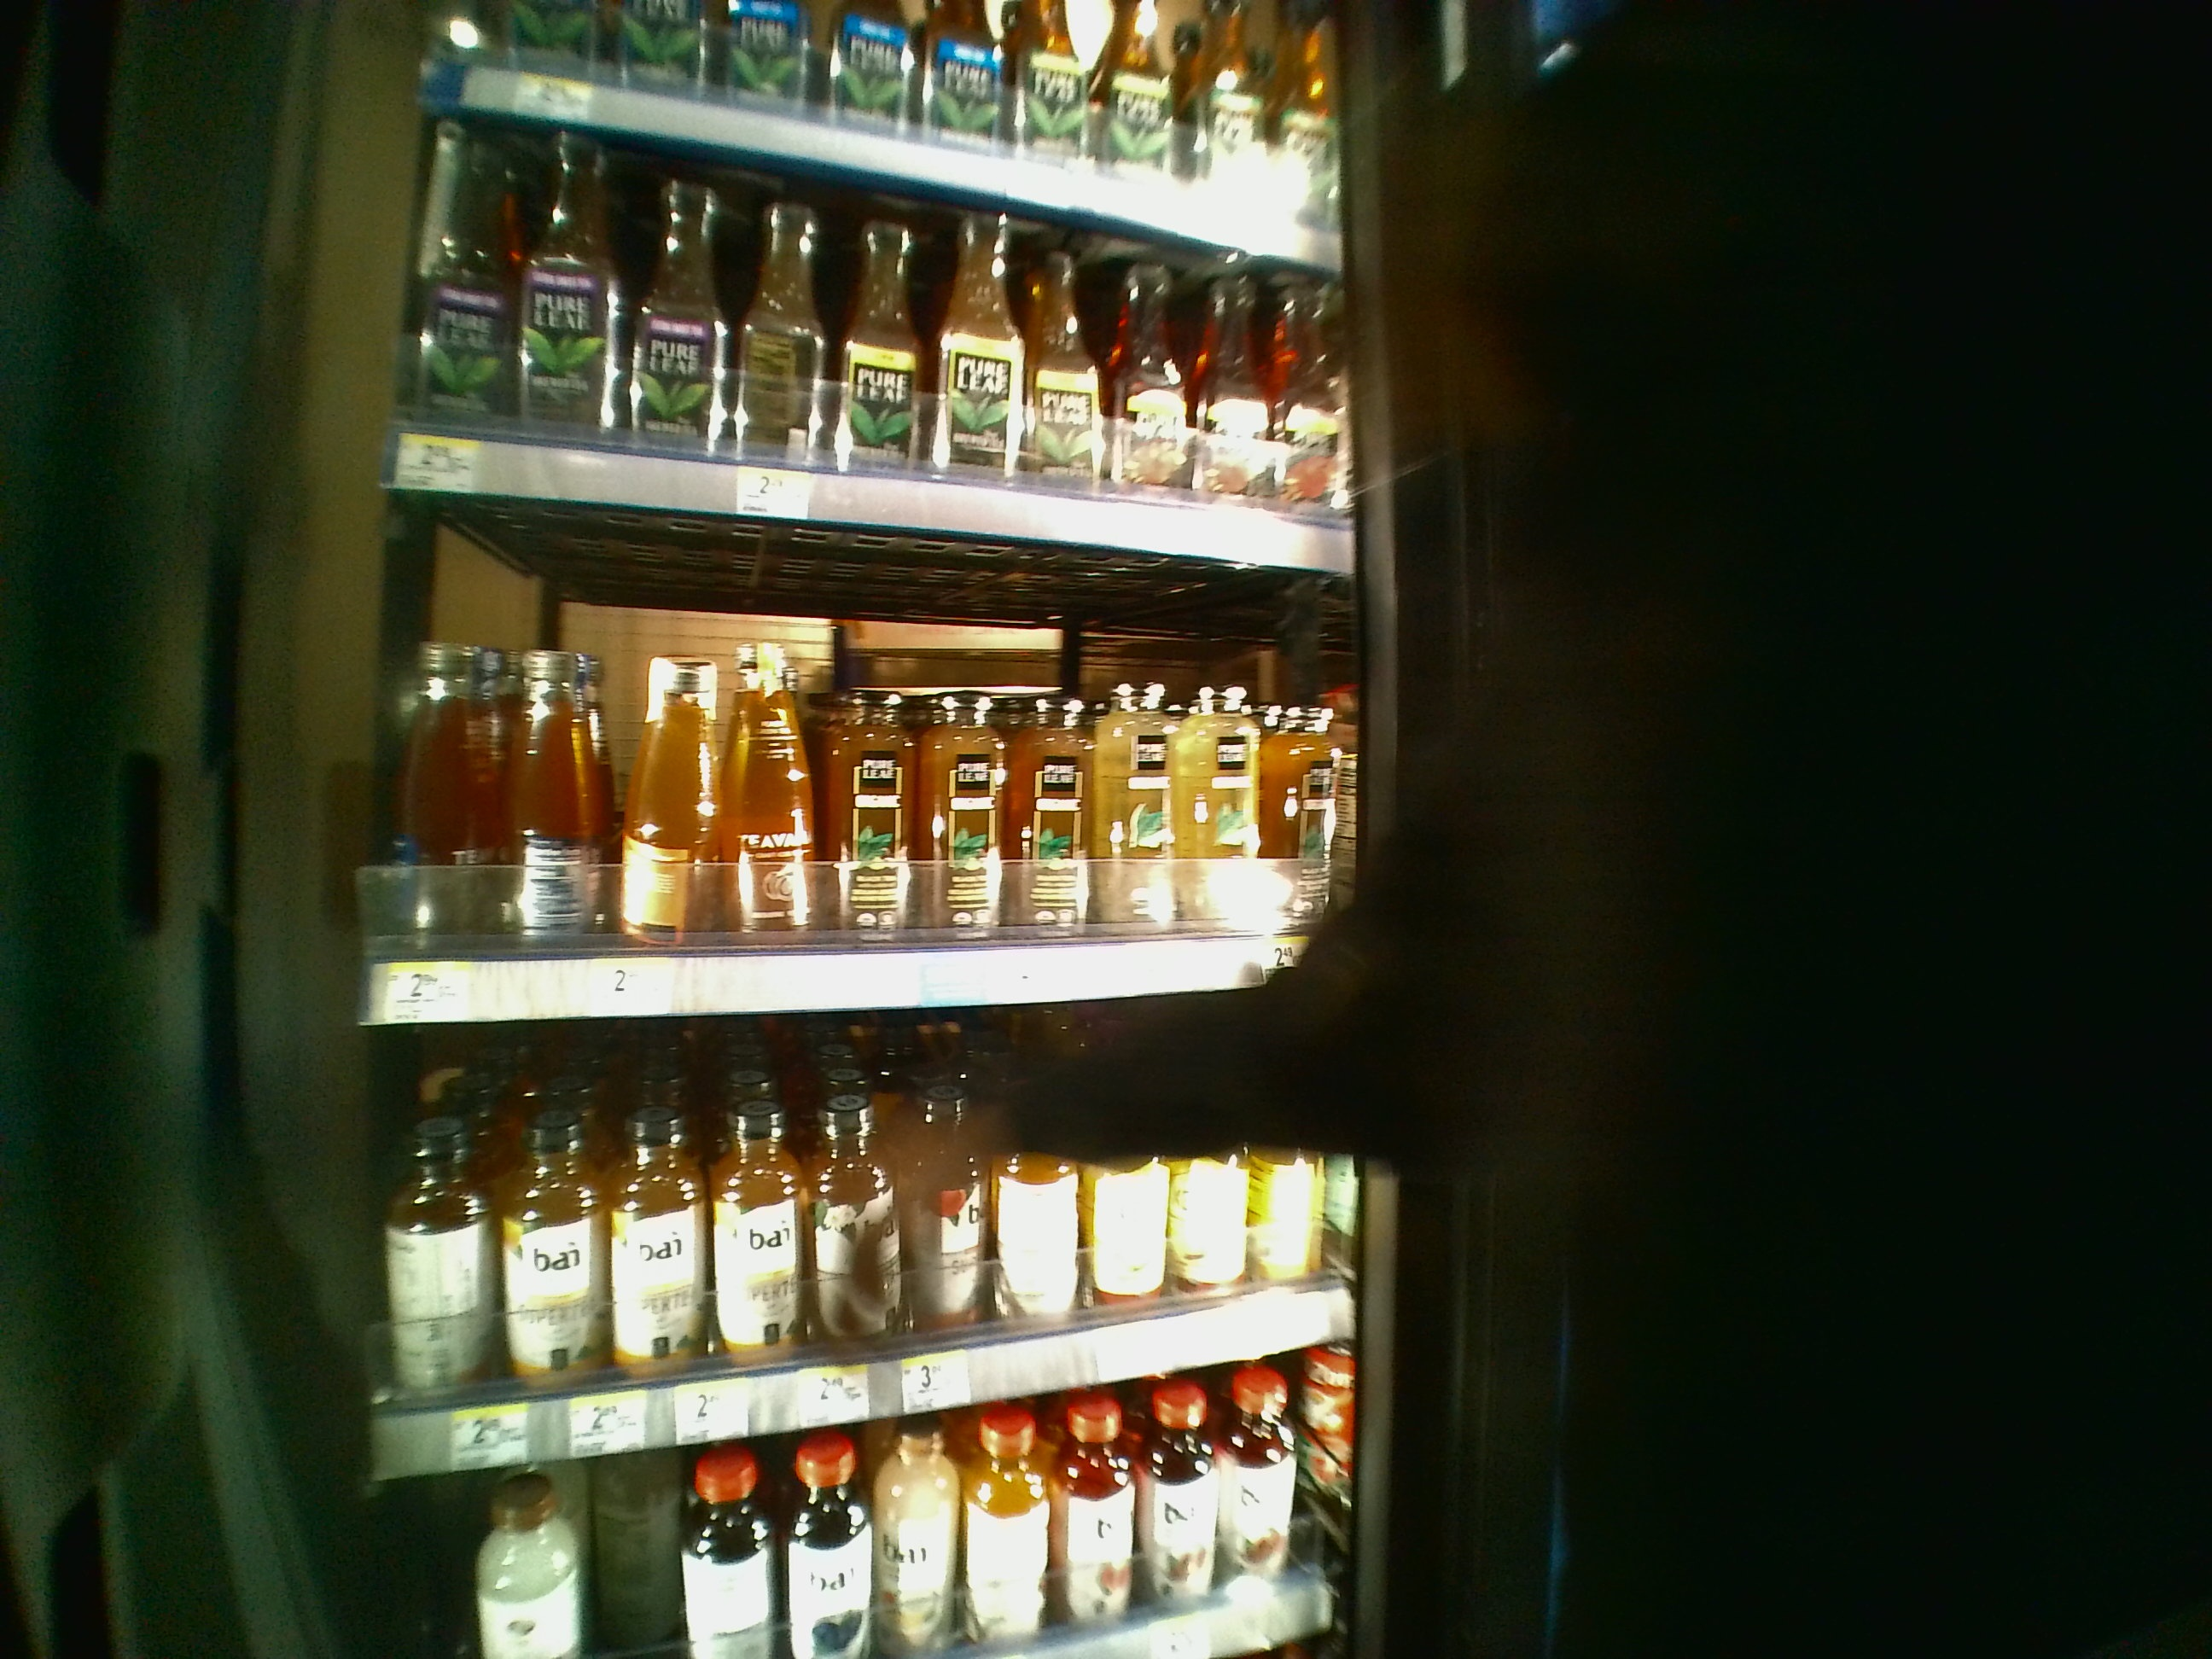shelf: (361, 490, 1355, 1033)
